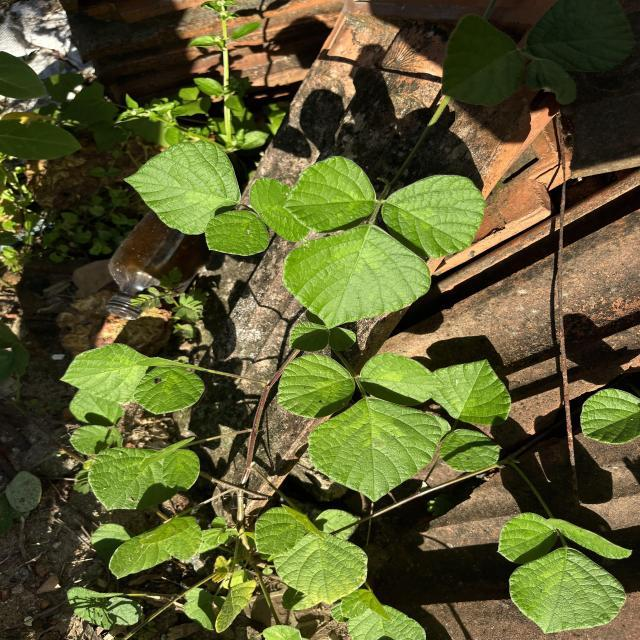Pseudarthria viscida: (281, 154, 487, 332), (274, 349, 444, 504), (494, 510, 634, 636)
